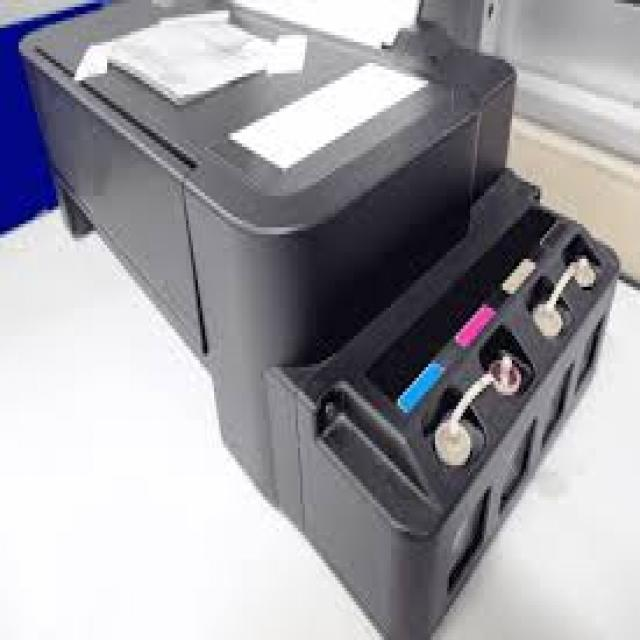printer: (10, 0, 640, 640)
